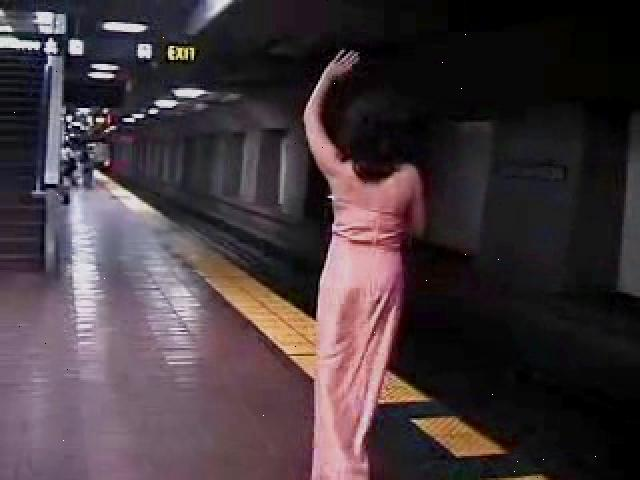L: (284, 47, 438, 475)
